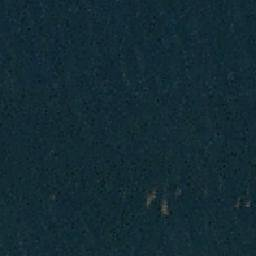debris: (145, 191, 158, 205), (159, 198, 171, 213), (243, 197, 252, 210), (234, 195, 242, 208)
